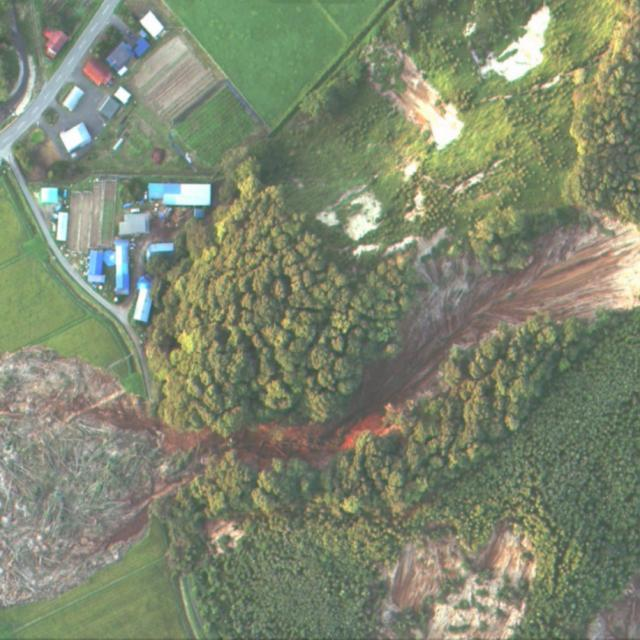landslide: (102, 222, 640, 467), (0, 349, 181, 608), (382, 525, 537, 640)
